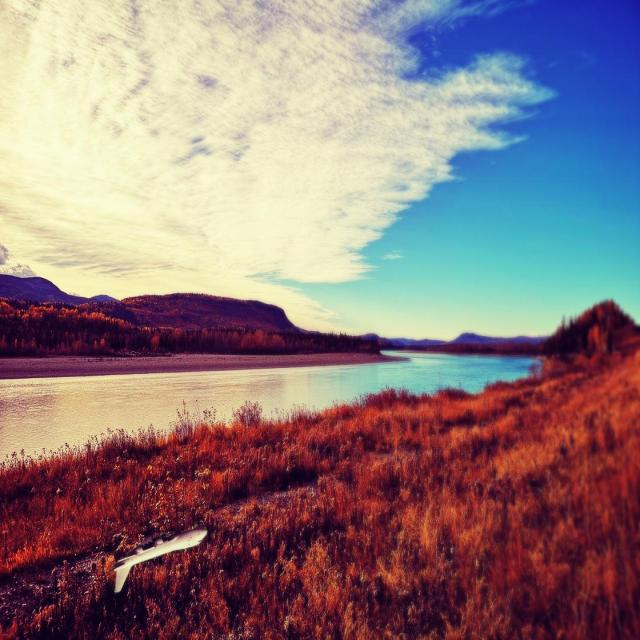airplane: (111, 526, 208, 594)
